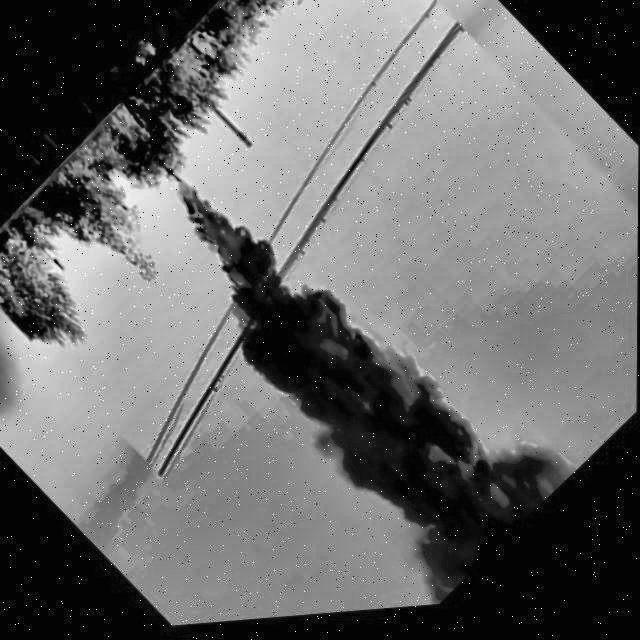Smoke: (96, 106, 576, 634)
